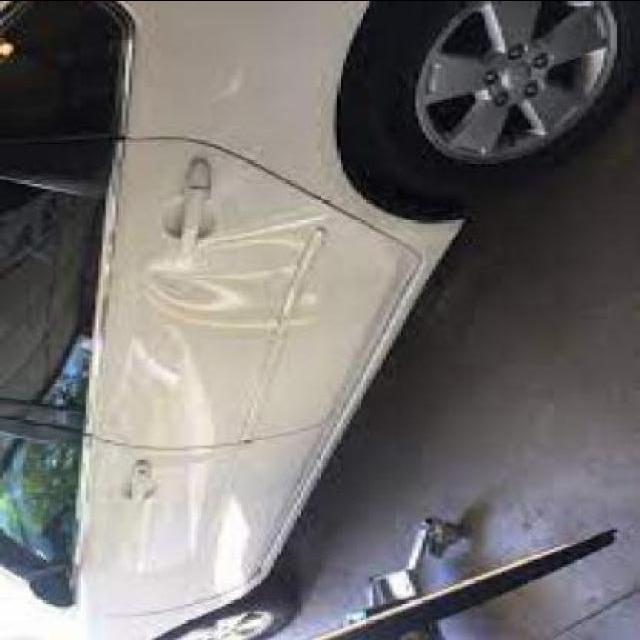doorouter-dent: (120, 218, 354, 337)
